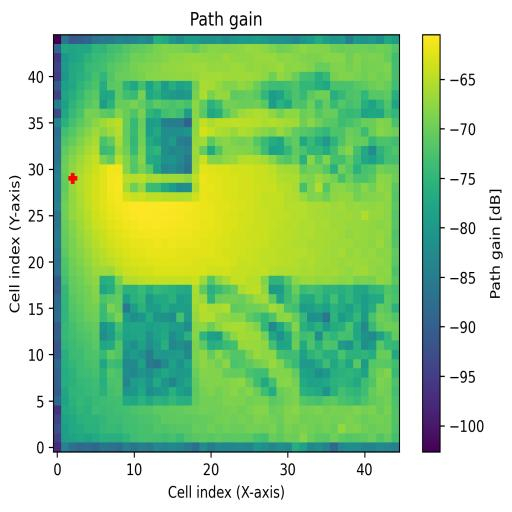Concrete: (301, 80, 376, 190)
Glass: (122, 80, 200, 202)
Metal: (298, 285, 376, 406)
Wood: (123, 286, 193, 406)
